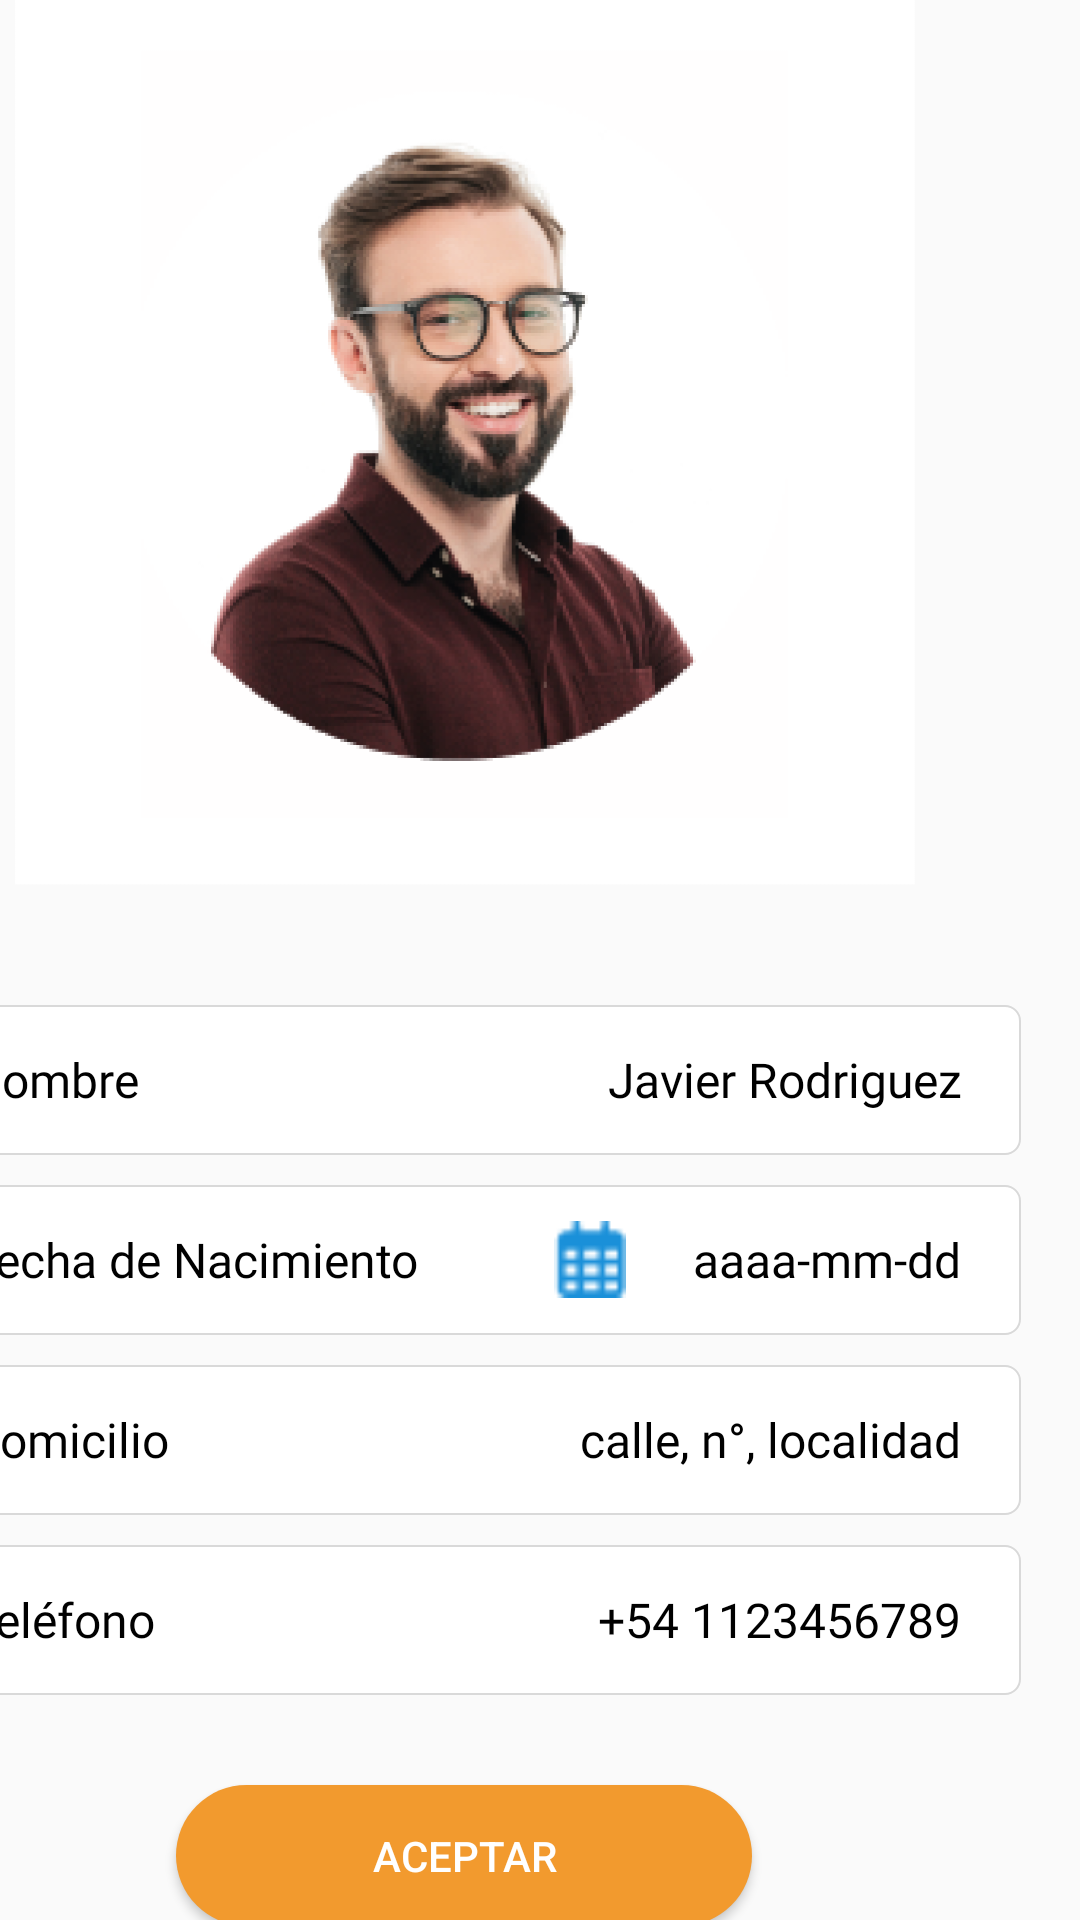

Locate icon controls on the screen. Image size 1080 × 1920, boxes as {"x1": x1, "y1": y1, "x2": x2, "y2": y2}.
calendar: {"x1": 554, "y1": 1221, "x2": 626, "y2": 1298}
